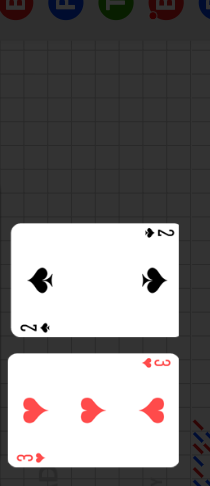2S: (142, 226, 175, 240)
3H: (16, 451, 48, 464)
